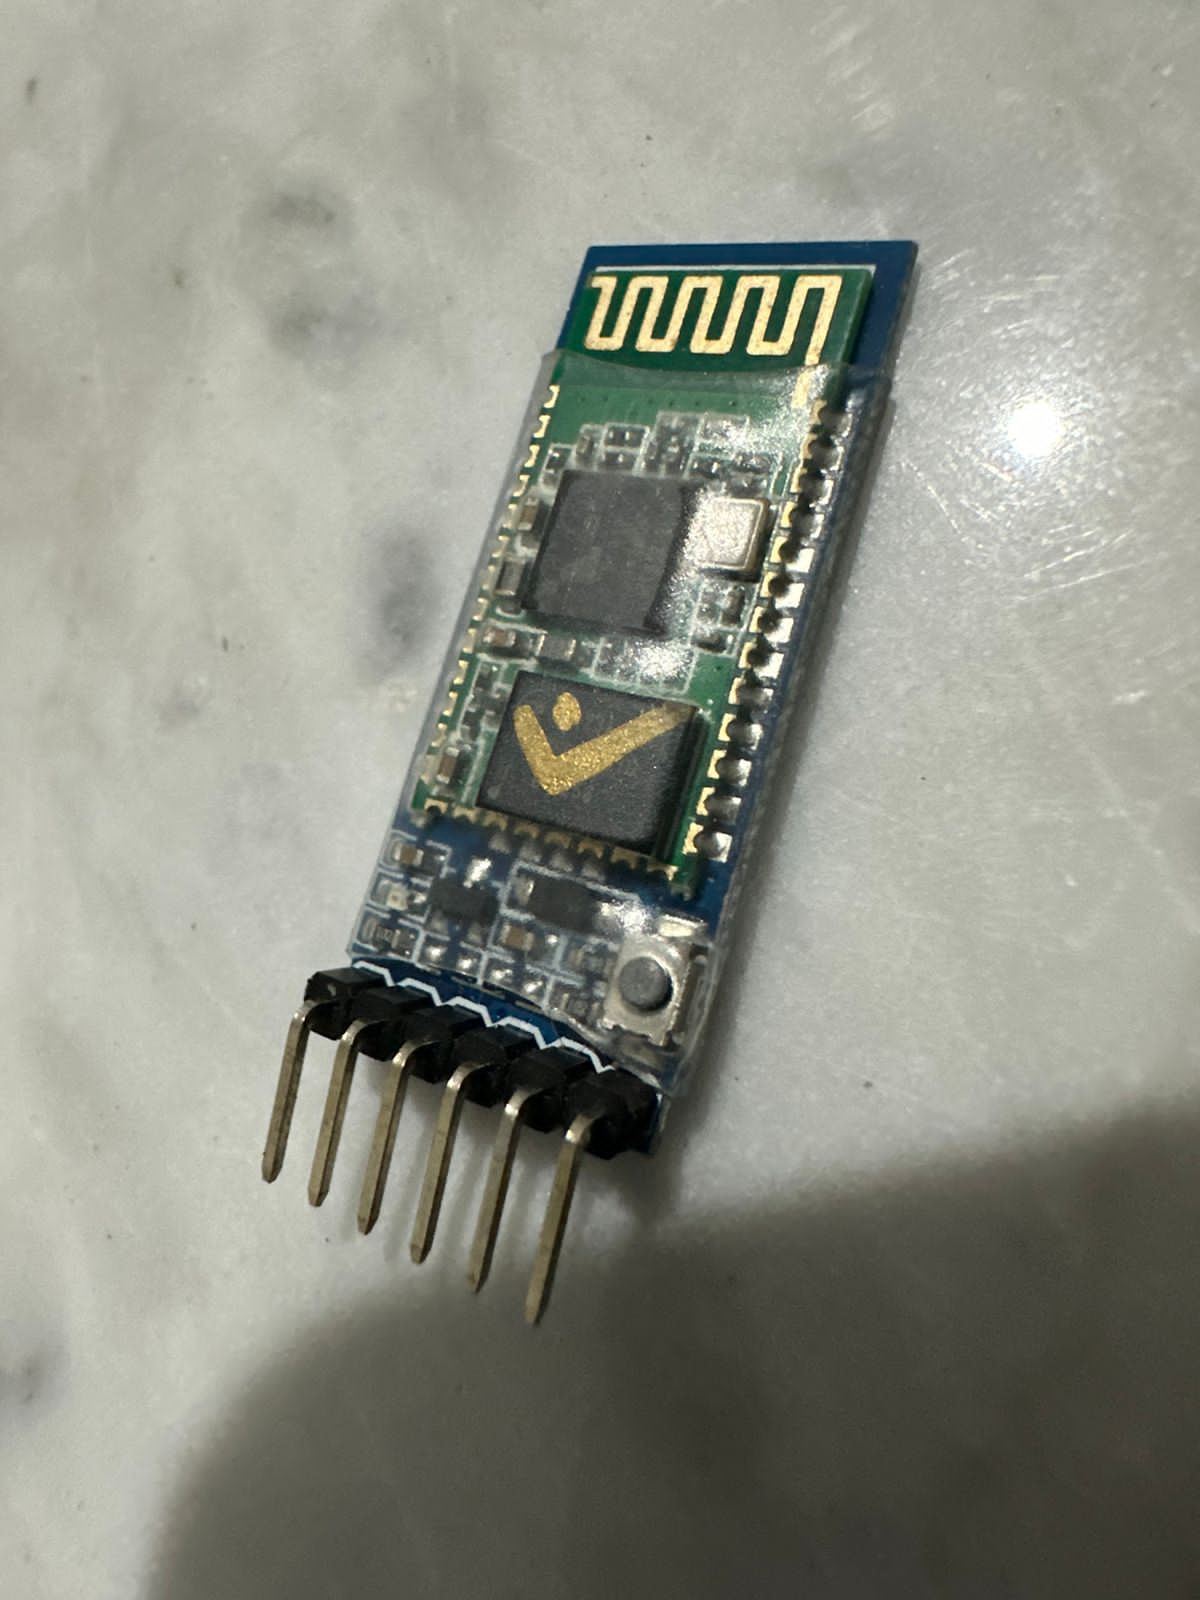module-bluetooth: (260, 227, 930, 1335)
